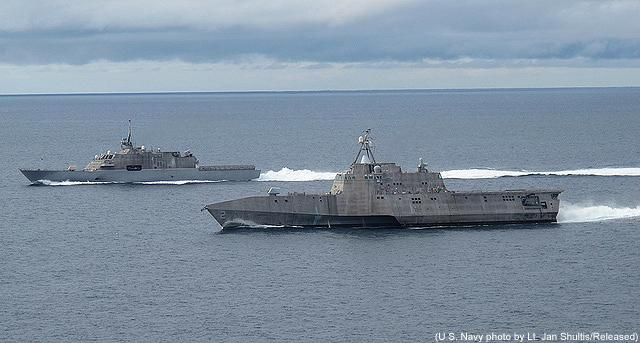Ship: (199, 150, 566, 236), (17, 141, 263, 182)
